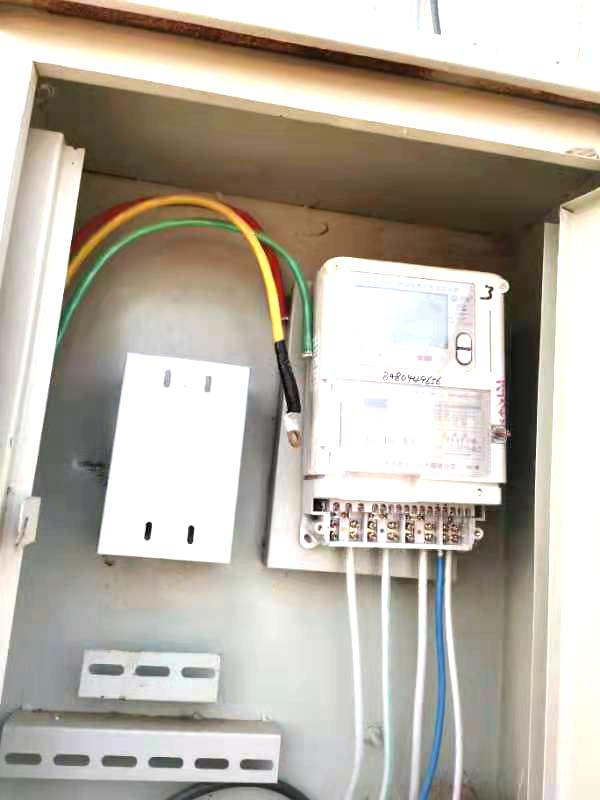digital: (310, 256, 505, 480)
